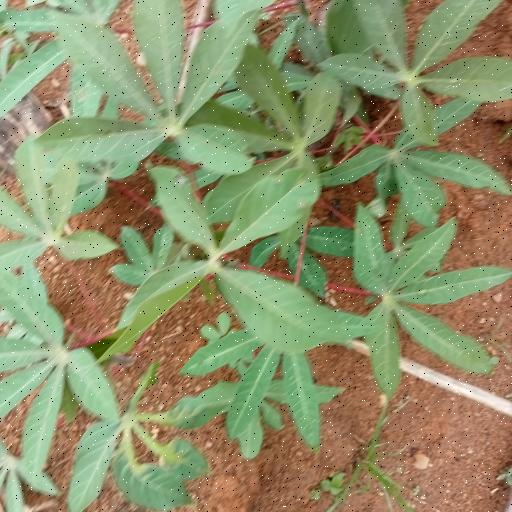Cassava_Mosaic: (100, 148, 343, 366), (352, 201, 508, 386)
